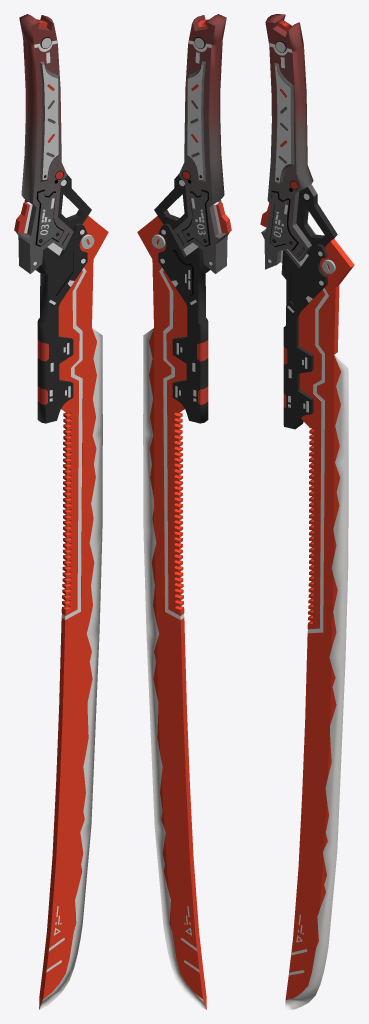
Rendered from RedSakura.fbx.
3 views of the same model, side by side, from view 1: azimuth 30°, elevation 25°; view 2: azimuth 150°, elevation 25°; view 3: azimuth 330°, elevation 25° (orthographic).
Visible parts, largest first — view 1: Body; view 2: Body; view 3: Body.
Boxes of the visible parts, x1=… form: Body: x1=14, y1=14, x2=108, y2=1009; Body: x1=137, y1=14, x2=231, y2=1009; Body: x1=260, y1=14, x2=354, y2=1009.
Bounding box in the file's own units: 0.1098 × 1.15 × 0.0286.
2 materials, 2 textured.
